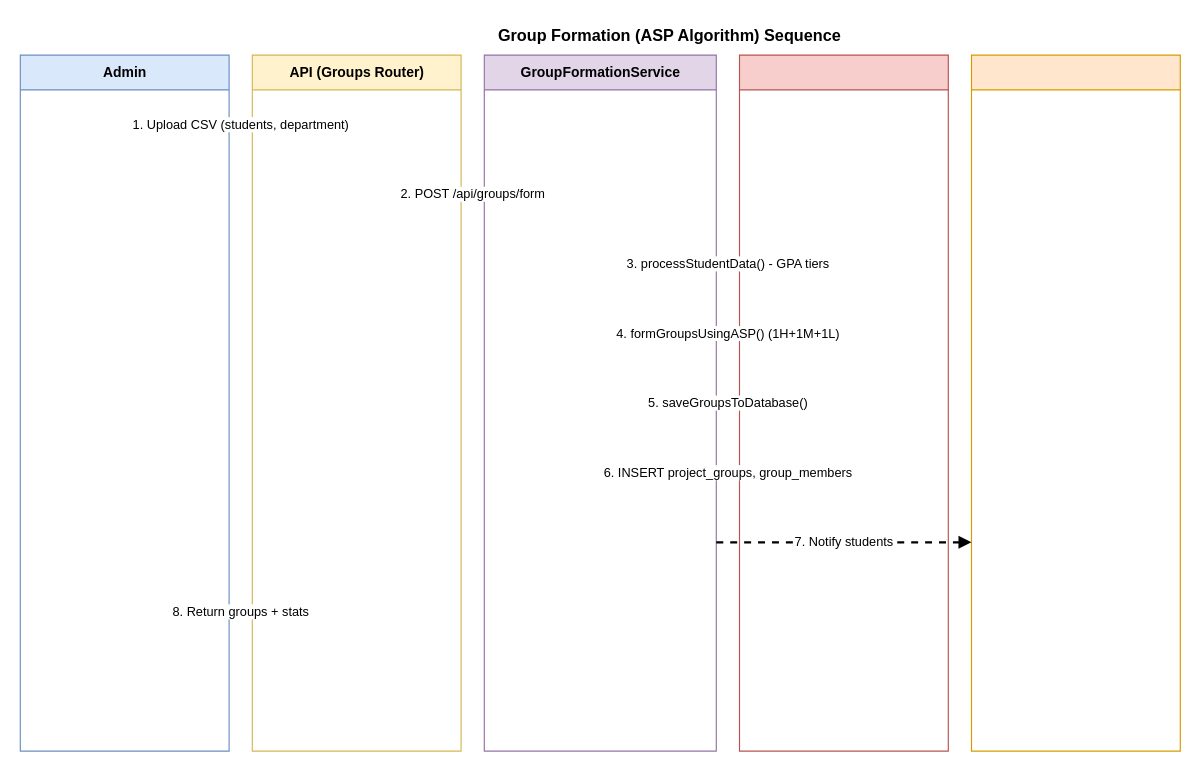
This 1201x771 diagram has some shape labels left out. The shapes that lost their labels are listed below. From the top down, each one's centre as x and y in pixels, then its label:
At pixel 843 402: "MySQL".
At pixel 1075 402: "Notification Service".
